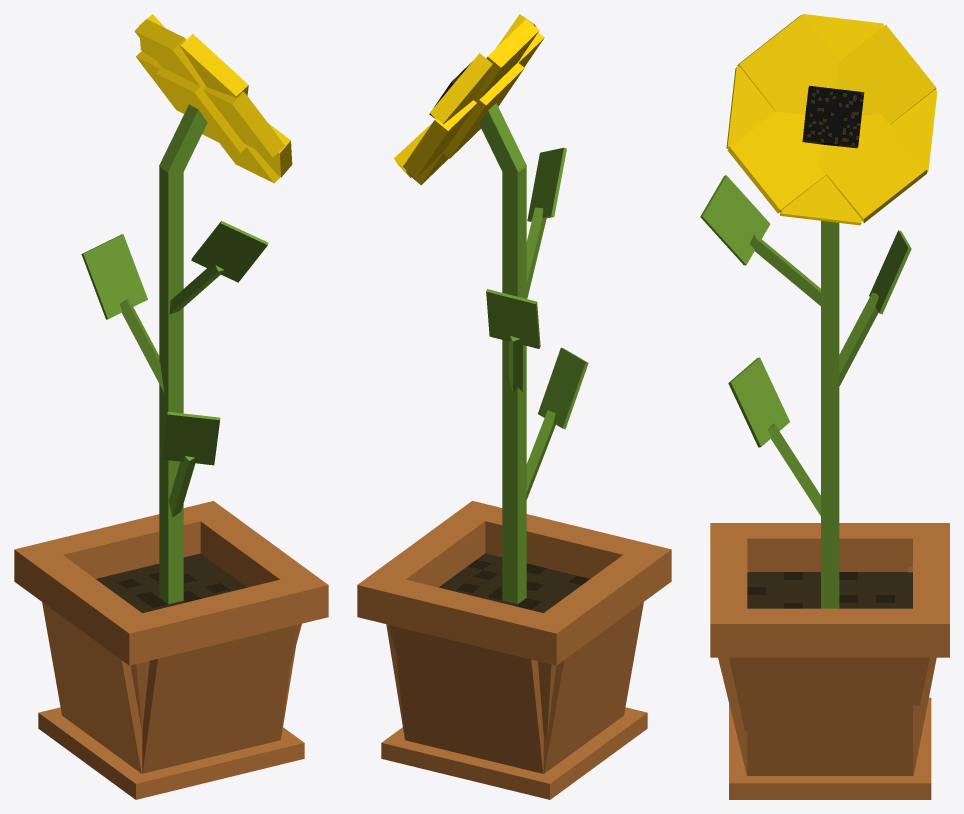
Rendered from sunflower.gltf.
3 renders of one model, left to right at view 1: azimuth 30°, elevation 25°; view 2: azimuth 150°, elevation 25°; view 3: azimuth 270°, elevation 25°, orthographic. The views are drawn at different scales.
Visible parts, largest first — view 1: c386d314-3f14-a0c6-fb75-f23cae18e5c2, 672104b6-c339-0f69-8119-120f28f9a933, 2f95a8cc-bbbc-db35-044c-f79740e91d66, 333c50d1-6a4a-8e58-b46b-c3d28cb64dc6, 06aabd16-3349-5bdf-8498-73f4c8db711b, ddc9255b-4930-0156-4b30-767f436a6501, c23cc15e-de04-6b69-7557-495be05f0663, 003d9cf4-38b9-7fdf-0eeb-8ae42016a5ac, 9e5a5c5c-ea0d-2c0c-b306-363fd2e89859, 3b1a7608-53c4-af62-febc-fd05c231e23b, fb4f10db-031a-c53a-c5c2-0aac2ff49b2d, 08eeee49-d1c8-8403-e501-237fbcf2336f (+10 smaller); view 2: 8da8971f-34cf-860c-c80f-5ca8d388a872, ddc9255b-4930-0156-4b30-767f436a6501, 2f95a8cc-bbbc-db35-044c-f79740e91d66, 333c50d1-6a4a-8e58-b46b-c3d28cb64dc6, 06aabd16-3349-5bdf-8498-73f4c8db711b, 672104b6-c339-0f69-8119-120f28f9a933, c23cc15e-de04-6b69-7557-495be05f0663, 003d9cf4-38b9-7fdf-0eeb-8ae42016a5ac, 9e5a5c5c-ea0d-2c0c-b306-363fd2e89859, 3b1a7608-53c4-af62-febc-fd05c231e23b, 923728d6-7e14-abfe-4ef2-f1e9526024a1, fb4f10db-031a-c53a-c5c2-0aac2ff49b2d (+9 smaller); view 3: f6d80f8a-b22c-4a03-d54f-698e41473893, 003d9cf4-38b9-7fdf-0eeb-8ae42016a5ac, c23cc15e-de04-6b69-7557-495be05f0663, 2f95a8cc-bbbc-db35-044c-f79740e91d66, 06aabd16-3349-5bdf-8498-73f4c8db711b, 0cba9fad-0adc-b3a2-8696-2442c2e0c0a3, 70e2d5b8-fb36-3673-6394-4382a56b1b57, 6e9d4138-4100-a9bb-bcc9-680ca79e0740, 5e36d5f6-5c8c-c5db-3223-4b51d02703ab, 9e5a5c5c-ea0d-2c0c-b306-363fd2e89859, 672104b6-c339-0f69-8119-120f28f9a933, ddc9255b-4930-0156-4b30-767f436a6501 (+13 smaller).
Boxes of the visible parts, <box> form: c386d314-3f14-a0c6-fb75-f23cae18e5c2: <box>142,625,295,773</box>; 672104b6-c339-0f69-8119-120f28f9a933: <box>111,572,328,665</box>; 2f95a8cc-bbbc-db35-044c-f79740e91d66: <box>159,165,183,604</box>; 333c50d1-6a4a-8e58-b46b-c3d28cb64dc6: <box>42,602,142,773</box>; 06aabd16-3349-5bdf-8498-73f4c8db711b: <box>38,707,304,799</box>; ddc9255b-4930-0156-4b30-767f436a6501: <box>14,501,230,592</box>; c23cc15e-de04-6b69-7557-495be05f0663: <box>14,542,159,665</box>; 003d9cf4-38b9-7fdf-0eeb-8ae42016a5ac: <box>184,501,328,624</box>; 9e5a5c5c-ea0d-2c0c-b306-363fd2e89859: <box>96,553,246,612</box>; 3b1a7608-53c4-af62-febc-fd05c231e23b: <box>81,234,147,319</box>; fb4f10db-031a-c53a-c5c2-0aac2ff49b2d: <box>136,51,284,157</box>; 08eeee49-d1c8-8403-e501-237fbcf2336f: <box>134,19,280,183</box>; 8da8971f-34cf-860c-c80f-5ca8d388a872: <box>393,626,543,773</box>; ddc9255b-4930-0156-4b30-767f436a6501: <box>357,574,574,665</box>; 2f95a8cc-bbbc-db35-044c-f79740e91d66: <box>502,164,526,604</box>; 333c50d1-6a4a-8e58-b46b-c3d28cb64dc6: <box>543,602,643,773</box>; 06aabd16-3349-5bdf-8498-73f4c8db711b: <box>381,707,647,799</box>; 672104b6-c339-0f69-8119-120f28f9a933: <box>455,501,671,593</box>; c23cc15e-de04-6b69-7557-495be05f0663: <box>526,549,671,664</box>; 003d9cf4-38b9-7fdf-0eeb-8ae42016a5ac: <box>357,501,485,617</box>; 9e5a5c5c-ea0d-2c0c-b306-363fd2e89859: <box>439,553,589,612</box>; 3b1a7608-53c4-af62-febc-fd05c231e23b: <box>486,289,540,348</box>; 923728d6-7e14-abfe-4ef2-f1e9526024a1: <box>538,347,588,429</box>; fb4f10db-031a-c53a-c5c2-0aac2ff49b2d: <box>403,32,544,177</box>; f6d80f8a-b22c-4a03-d54f-698e41473893: <box>747,657,912,775</box>; 003d9cf4-38b9-7fdf-0eeb-8ae42016a5ac: <box>710,608,949,657</box>; c23cc15e-de04-6b69-7557-495be05f0663: <box>710,523,949,571</box>; 2f95a8cc-bbbc-db35-044c-f79740e91d66: <box>821,220,839,608</box>; 06aabd16-3349-5bdf-8498-73f4c8db711b: <box>729,697,931,799</box>; 0cba9fad-0adc-b3a2-8696-2442c2e0c0a3: <box>818,114,926,222</box>; 70e2d5b8-fb36-3673-6394-4382a56b1b57: <box>727,111,826,213</box>; 6e9d4138-4100-a9bb-bcc9-680ca79e0740: <box>737,14,838,114</box>; 5e36d5f6-5c8c-c5db-3223-4b51d02703ab: <box>836,25,936,124</box>; 9e5a5c5c-ea0d-2c0c-b306-363fd2e89859: <box>747,572,912,608</box>; 672104b6-c339-0f69-8119-120f28f9a933: <box>710,523,747,657</box>; ddc9255b-4930-0156-4b30-767f436a6501: <box>913,523,949,657</box>.
Size of the model in its own units: 0.8129 by 2.8 by 0.8474.
Materials: 5 (5 with a texture image).
